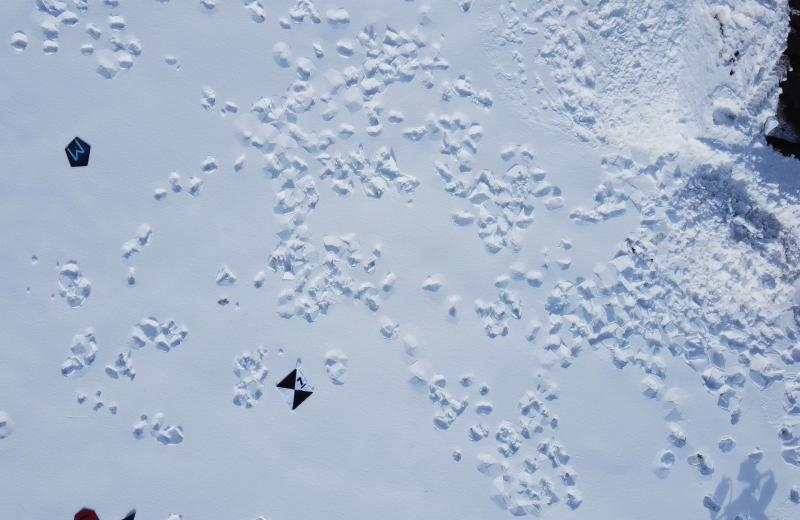Octagon: (66, 499, 102, 520)
Pentagon: (60, 133, 93, 172)
